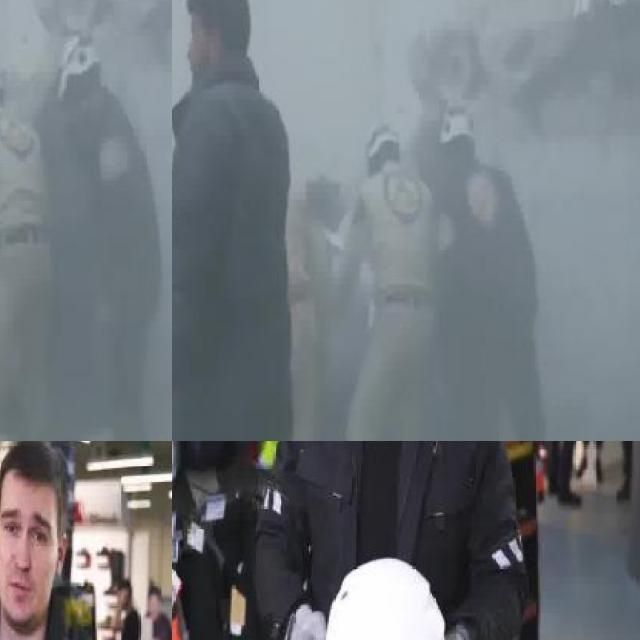apron: (286, 602, 326, 640)
